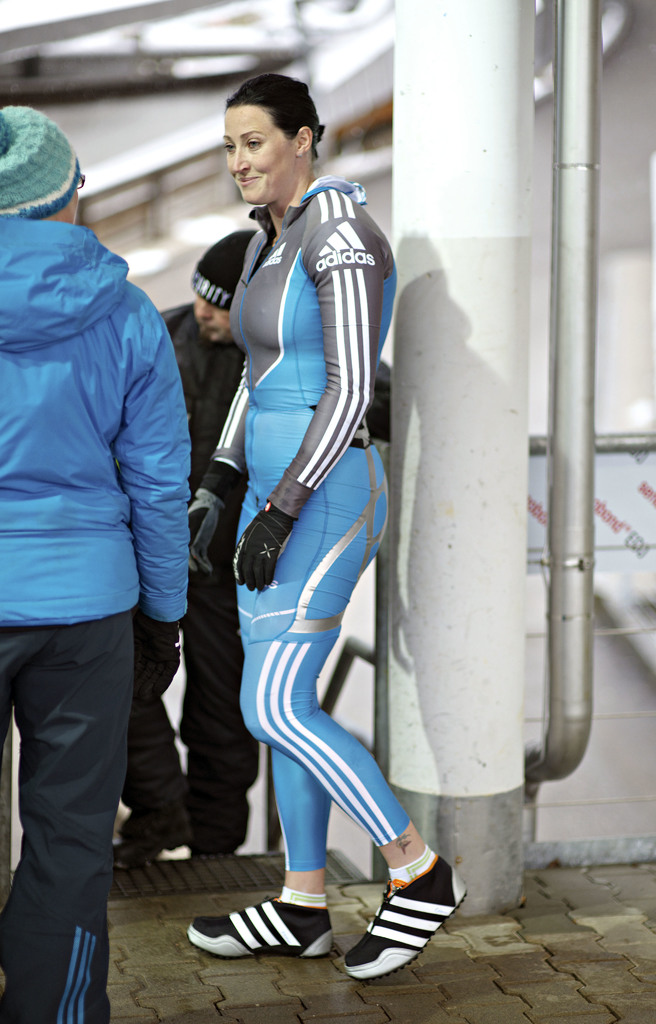Footwear: (342, 846, 472, 982), (185, 897, 351, 975), (109, 813, 198, 876)
